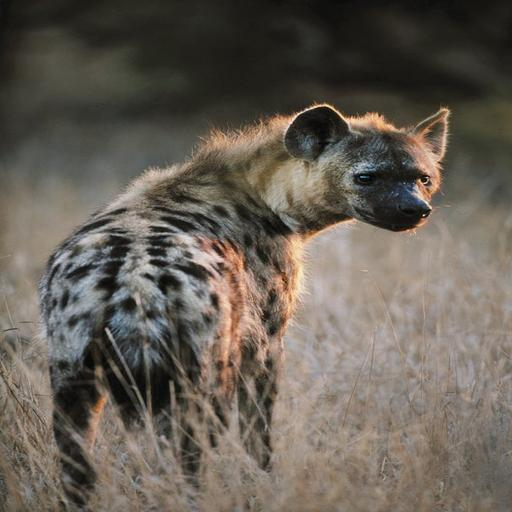Hyena: (38, 100, 454, 512)
